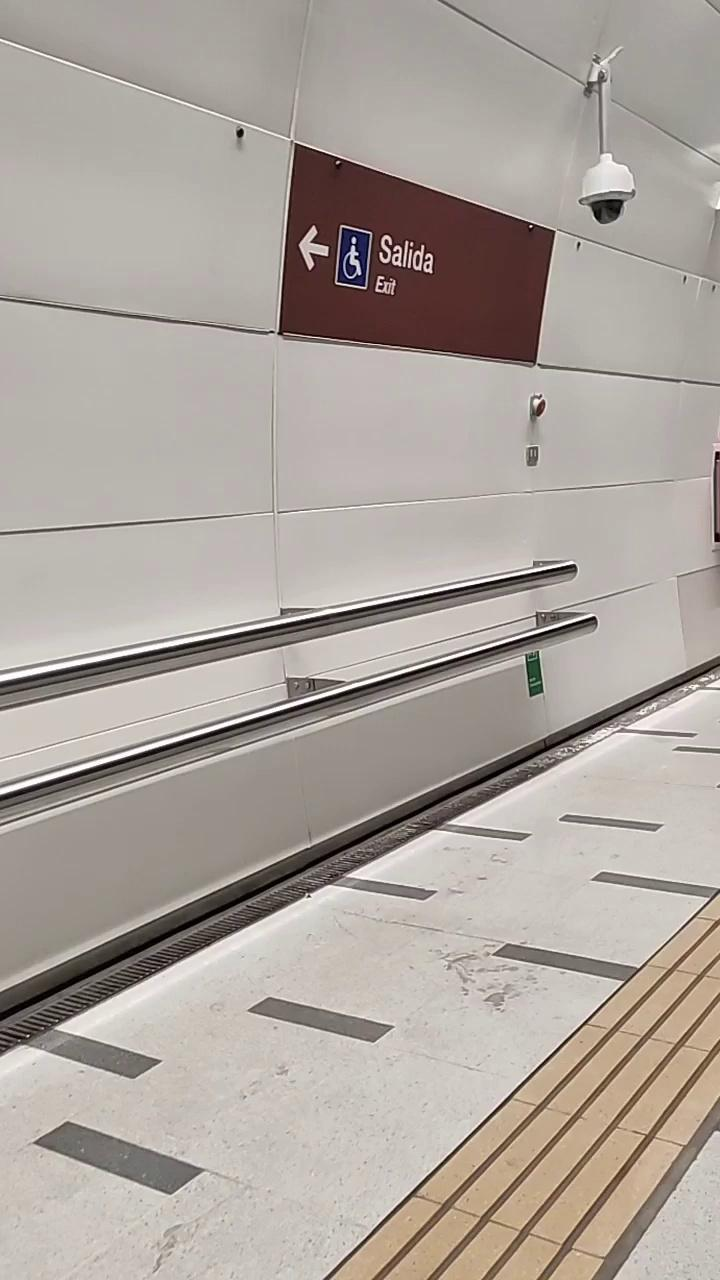handicapped symbol: (342, 236, 364, 280)
left arrow: (298, 224, 330, 272)
